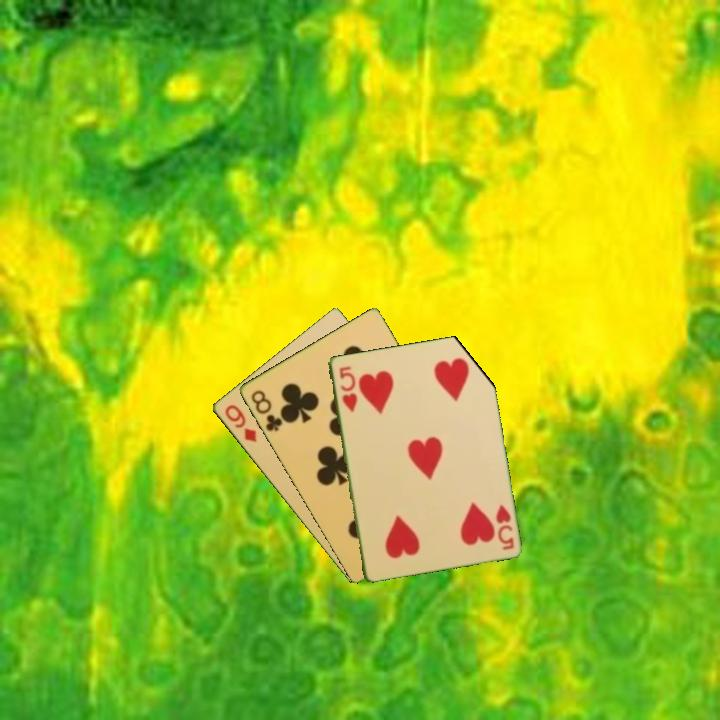5h: (335, 362, 360, 415), (492, 501, 517, 552)
8c: (247, 386, 285, 434)
9d: (221, 401, 259, 445)
